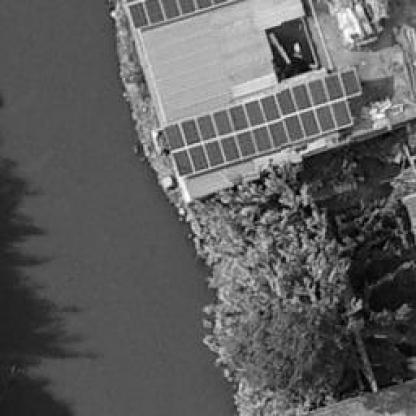solar-pv-panel: (164, 68, 362, 179), (126, 0, 232, 28)
